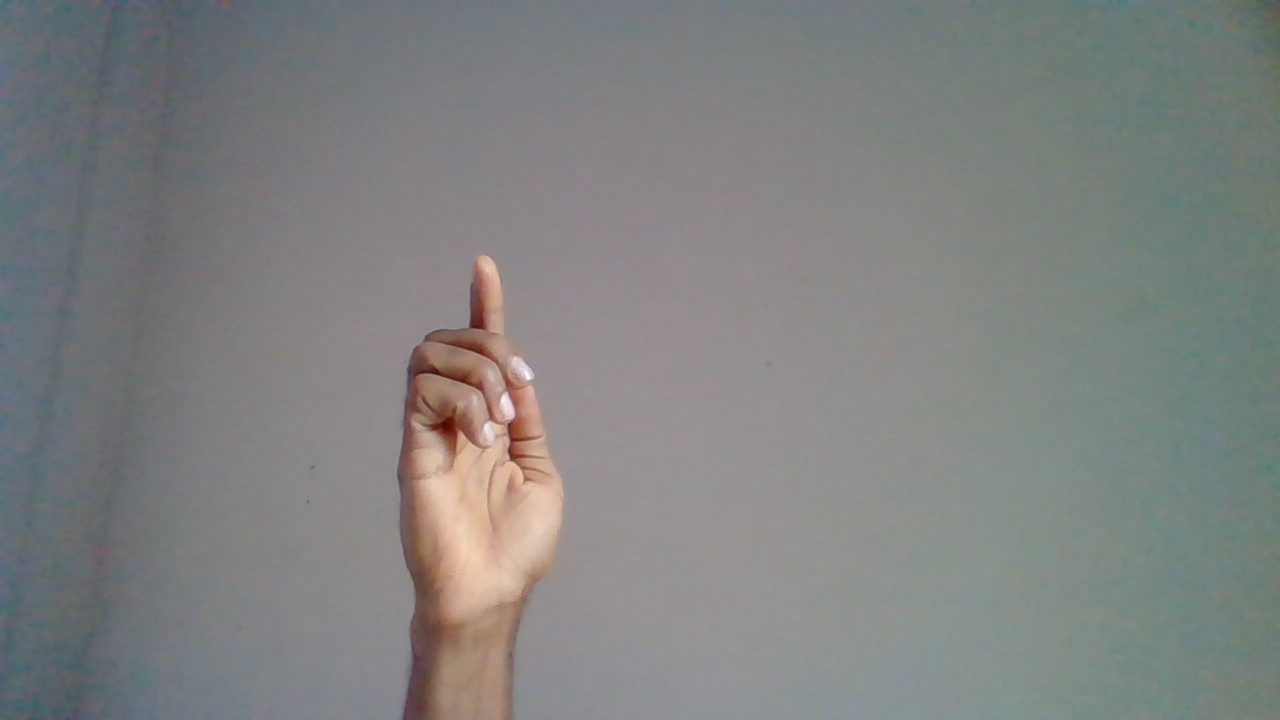qe: (390, 256, 570, 700)
